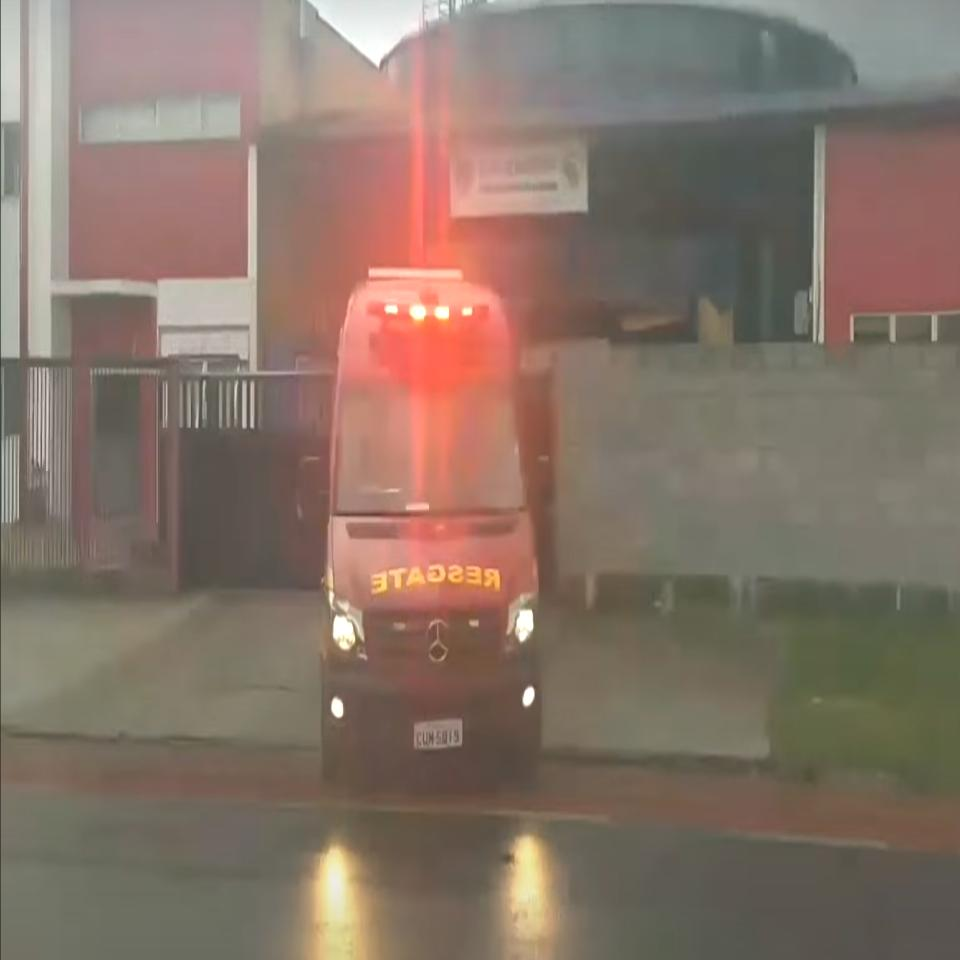bombeiro: (297, 264, 554, 786)
